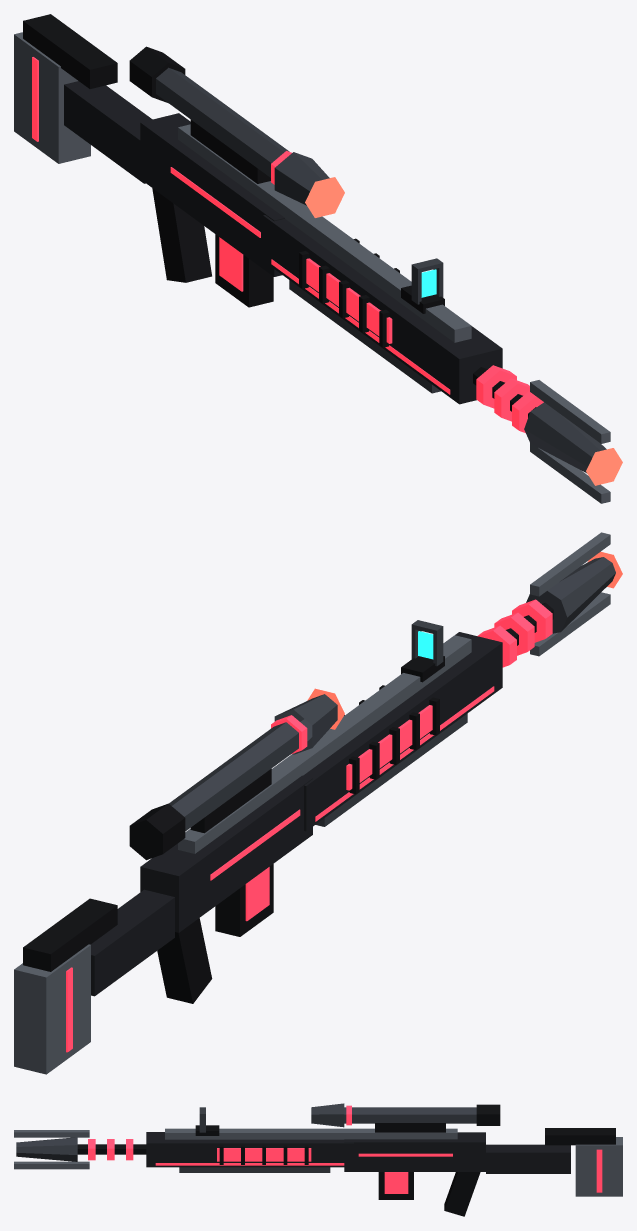
Rendered from bot-laser-rifle.glb.
3 renders of one model, top to bottom at view 1: azimuth 30°, elevation 25°; view 2: azimuth 150°, elevation 25°; view 3: azimuth 270°, elevation 25°, orthographic. The views are drawn at different scales.
Parts seen in each view (by area): view 1: Rifle; view 2: Rifle; view 3: Rifle.
Part boxes in pixels (x1=…): Rifle: x1=14, y1=14, x2=622, y2=503; Rifle: x1=14, y1=532, x2=622, y2=1074; Rifle: x1=14, y1=1103, x2=622, y2=1216.
Bounding box in the file's own units: 0.074 × 0.2573 × 1.29.
Materials: 1 (1 with a texture image).
